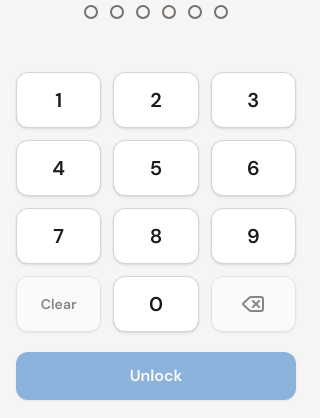
it: PinPad — entry › turns the unlock button on at four digits, not before
Click the button "1": (59, 100) [16, 72, 101, 128]
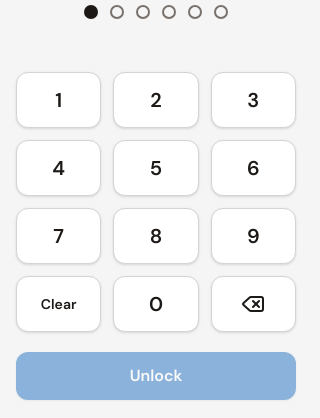
Click the button "2": (156, 100) [113, 72, 199, 128]
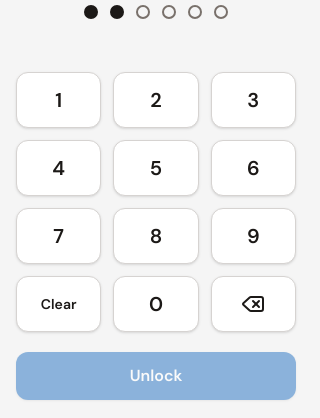
Click the button "3": (253, 100) [211, 72, 296, 128]
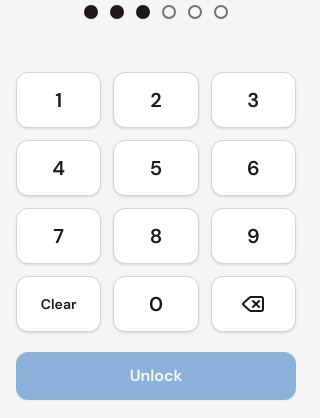
Expected: the button "Unlock" is disabled, [16, 352, 296, 400]
Click the button "4": (59, 168) [16, 140, 101, 196]
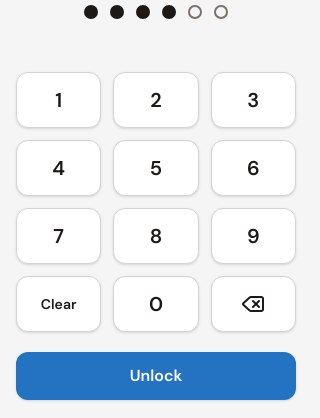
Expected: the button "Unlock" is enabled, [16, 352, 296, 400]
